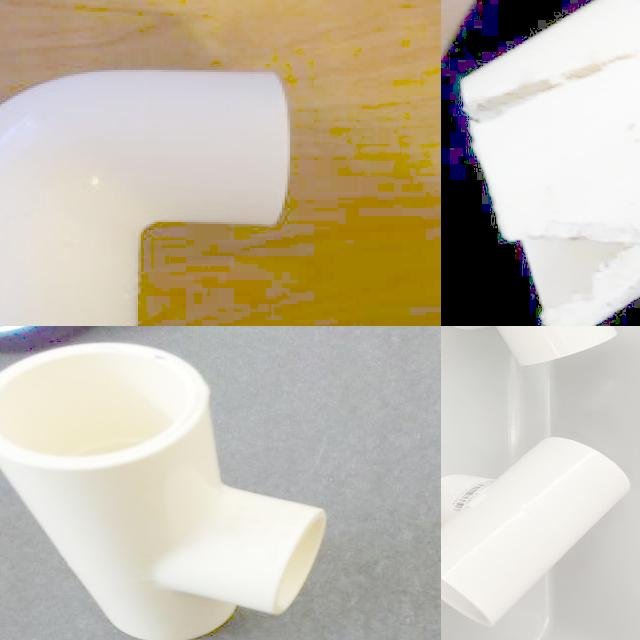Defective: (487, 190, 640, 326), (456, 42, 640, 140)
L Joint: (0, 71, 292, 326)
T Joint: (0, 343, 326, 640), (441, 437, 632, 629)
